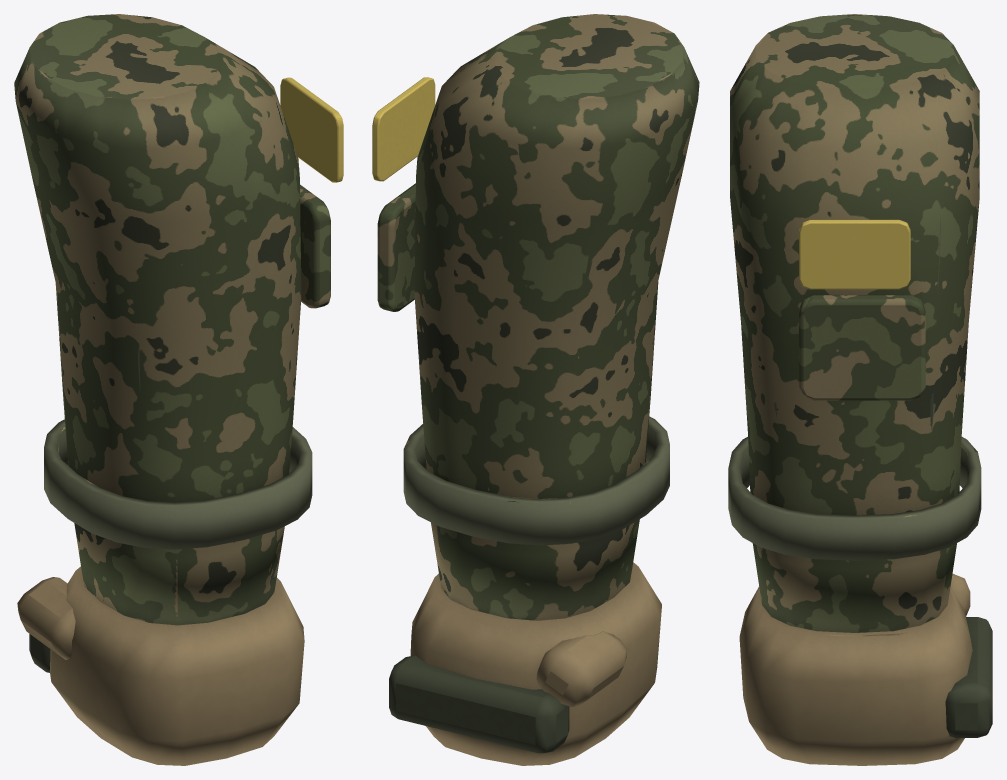
File: Alpha_Arm.fbx
3 renders of one model, left to right at view 1: azimuth 30°, elevation 25°; view 2: azimuth 150°, elevation 25°; view 3: azimuth 270°, elevation 25°, orthographic. The views are drawn at different scales.
Parts seen in each view (by area): view 1: Alpha_Arm_body; view 2: Alpha_Arm_body; view 3: Alpha_Arm_body.
Boxes of the visible parts, <box> form: Alpha_Arm_body: <box>14,14,343,765</box>; Alpha_Arm_body: <box>372,14,699,765</box>; Alpha_Arm_body: <box>728,14,992,765</box>.
Size of the model in its own units: 84 by 194 by 71.
1 material, 1 textured.
